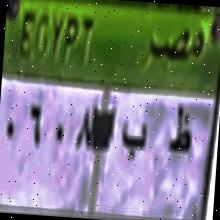0: (2, 109, 20, 146), (50, 116, 68, 152)
6: (26, 98, 45, 158)
8: (75, 107, 94, 158)
Thaa: (164, 100, 196, 168)
baa: (119, 115, 150, 164)
